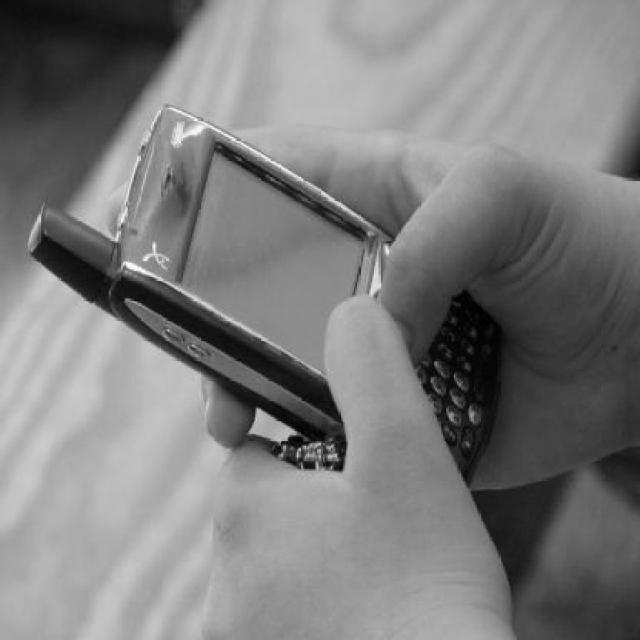fake: (46, 94, 505, 516)
